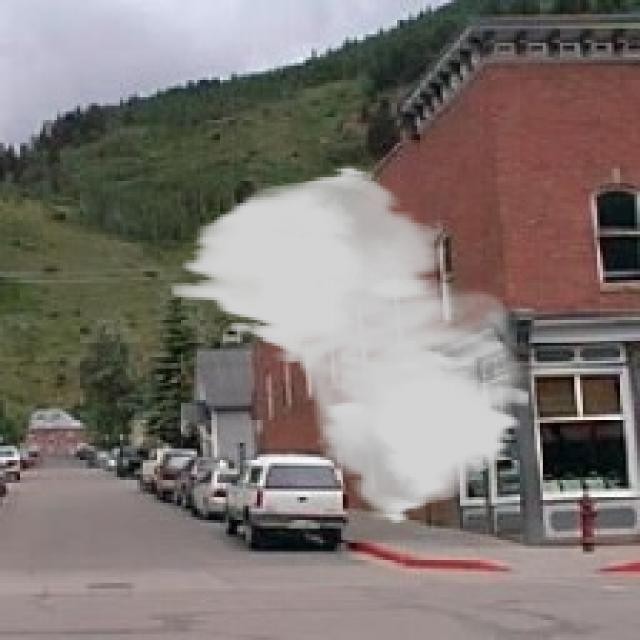smoke: (172, 165, 532, 526)
